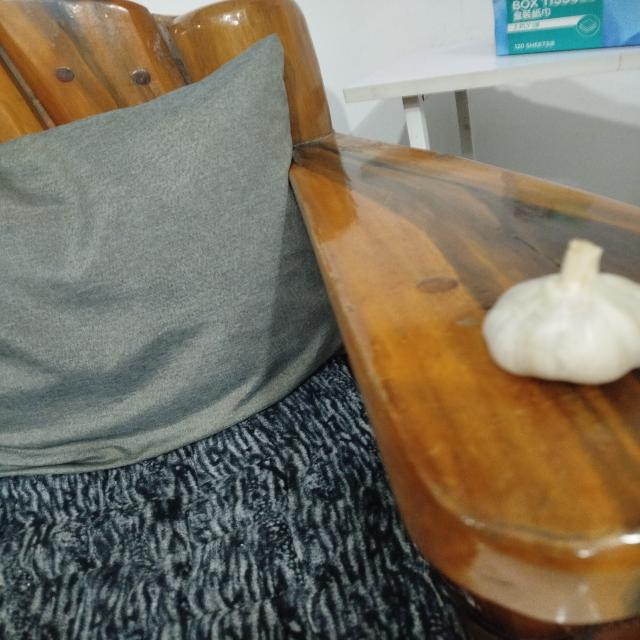garlic: (481, 237, 639, 385)
